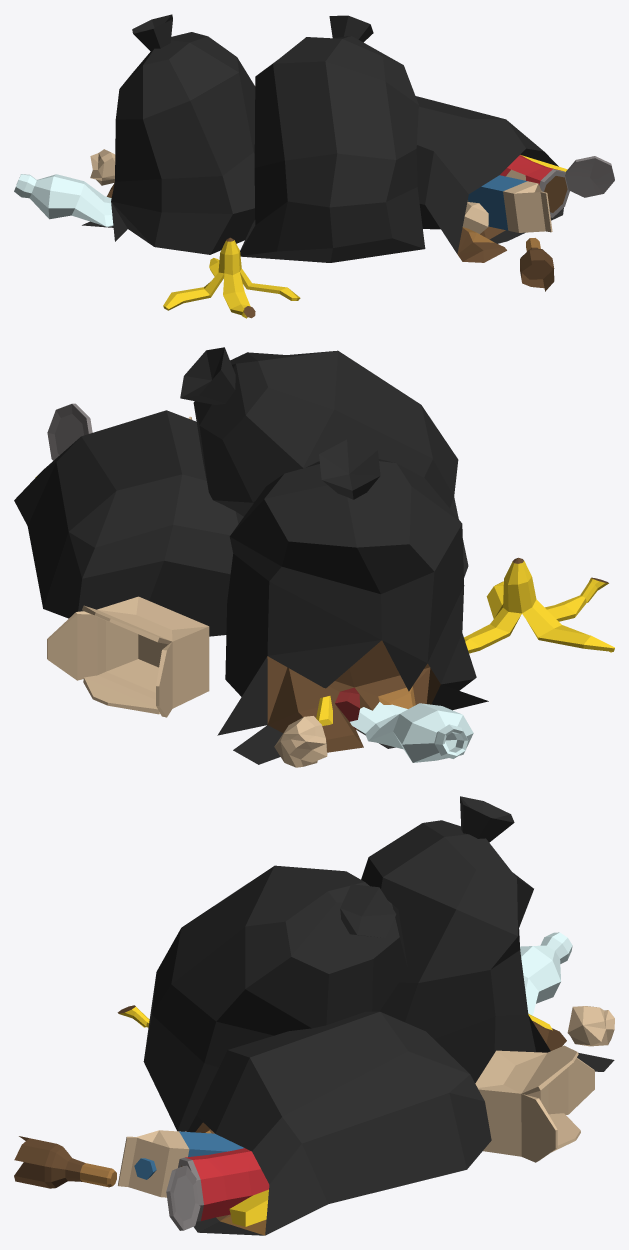
Rendered from apocalypse_garbage-pile.fbx.
3 views of the same model, one above another, from view 1: azimuth 30°, elevation 25°; view 2: azimuth 150°, elevation 25°; view 3: azimuth 270°, elevation 25° (orthographic). The views are drawn at different scales.
Parts seen in each view (by area): view 1: apocalypse_garbage_pile; view 2: apocalypse_garbage_pile; view 3: apocalypse_garbage_pile.
Boxes of the visible parts, bbox=[...] form: apocalypse_garbage_pile: bbox=[14, 14, 614, 318]; apocalypse_garbage_pile: bbox=[14, 347, 614, 767]; apocalypse_garbage_pile: bbox=[14, 796, 614, 1235].
Size of the model in its own units: 200 by 85.49 by 178.
